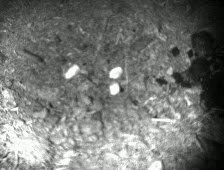corn: (62, 62, 82, 82), (107, 65, 124, 79), (108, 79, 121, 97)
